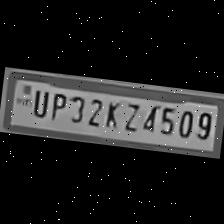0: (174, 104, 196, 136)
2: (83, 93, 105, 126)
3: (64, 90, 87, 123)
4: (138, 99, 160, 132)
5: (154, 101, 176, 134)
9: (191, 105, 214, 138)
K: (100, 96, 122, 128)
P: (46, 88, 69, 120)
U: (27, 84, 51, 118)
Z: (117, 97, 141, 131)
